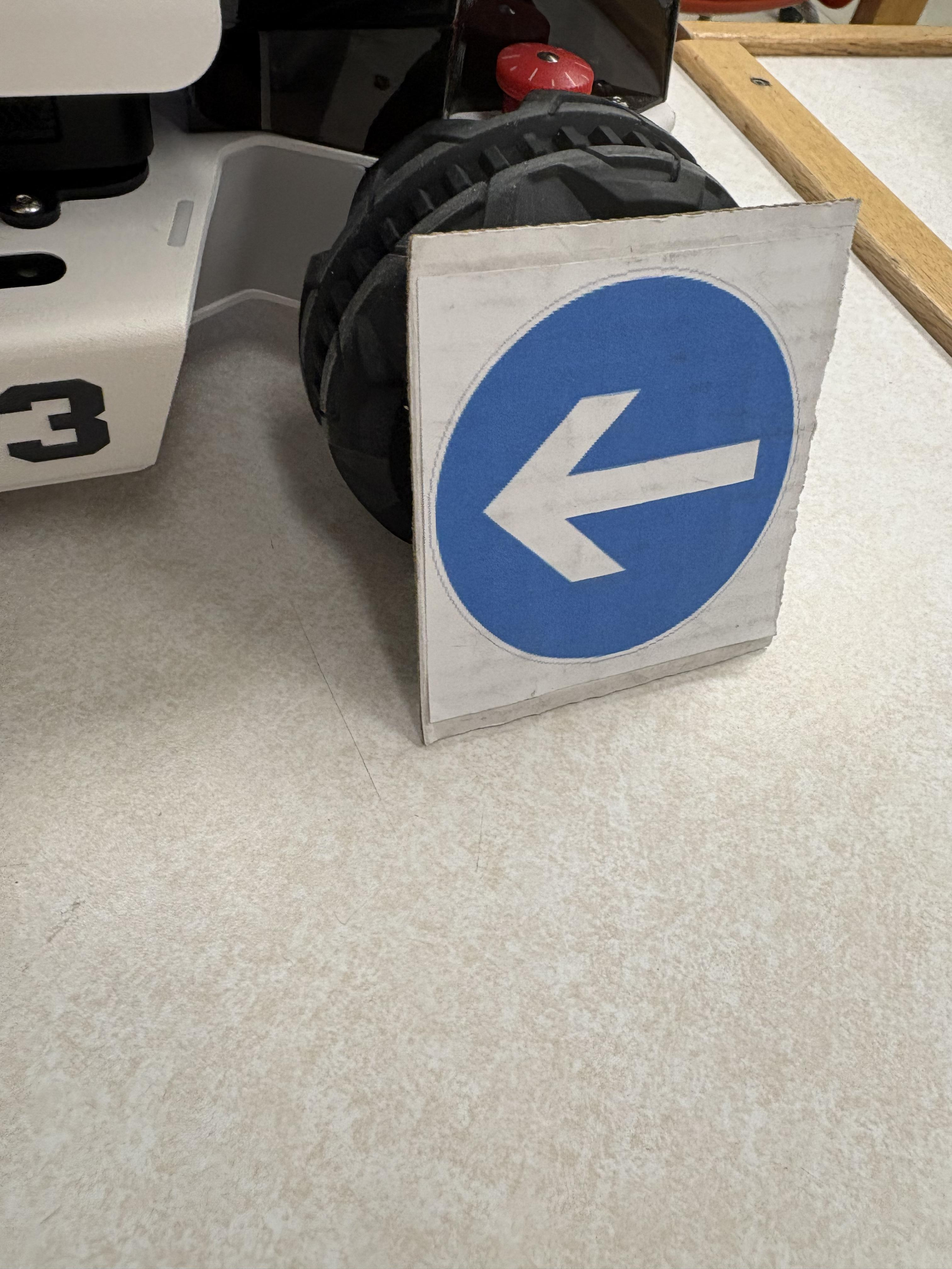Proceed Left: (308, 269, 643, 994)
